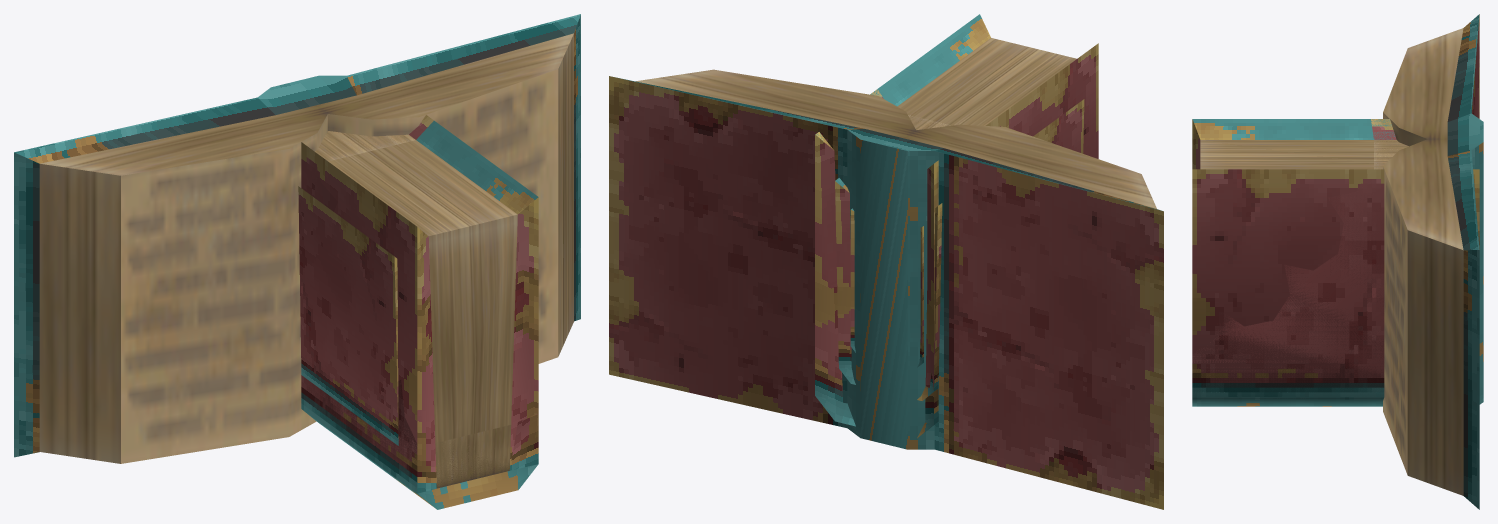
File: book_set_01.glb
3 renders of one model, left to right at view 1: azimuth 30°, elevation 25°; view 2: azimuth 150°, elevation 25°; view 3: azimuth 270°, elevation 25°, orthographic. The views are drawn at different scales.
Visible parts, largest first — view 1: interior.book_set_01-MeshSets[book_open].Mesh[1], interior.book_set_01-MeshSets[book_large_01].Mesh[1], interior.book_set_01-MeshSets[book_large_01].Mesh[0], interior.book_set_01-MeshSets[book_open].Mesh[0], interior.book_set_01-MeshSets[book_med_01].Mesh[0], interior.book_set_01-MeshSets[book_chomp_01].Mesh[0], interior.book_set_01-MeshSets[book_chomp_01].Mesh[1]; view 2: interior.book_set_01-MeshSets[book_open].Mesh[0], interior.book_set_01-MeshSets[book_open].Mesh[1], interior.book_set_01-MeshSets[book_chomp_01].Mesh[0], interior.book_set_01-MeshSets[book_large_01].Mesh[0], interior.book_set_01-MeshSets[book_large_01].Mesh[1], interior.book_set_01-MeshSets[book_med_01].Mesh[0], interior.book_set_01-MeshSets[book_small_01].Mesh[0]; view 3: interior.book_set_01-MeshSets[book_large_01].Mesh[0], interior.book_set_01-MeshSets[book_open].Mesh[1], interior.book_set_01-MeshSets[book_chomp_01].Mesh[0], interior.book_set_01-MeshSets[book_open].Mesh[0], interior.book_set_01-MeshSets[book_large_01].Mesh[1], interior.book_set_01-MeshSets[book_chomp_01].Mesh[1].
Part boxes in pixels (x1=…): interior.book_set_01-MeshSets[book_open].Mesh[1]: x1=39, y1=33, x2=573, y2=463; interior.book_set_01-MeshSets[book_large_01].Mesh[1]: x1=318, y1=131, x2=517, y2=487; interior.book_set_01-MeshSets[book_large_01].Mesh[0]: x1=301, y1=120, x2=538, y2=508; interior.book_set_01-MeshSets[book_open].Mesh[0]: x1=14, y1=14, x2=580, y2=457; interior.book_set_01-MeshSets[book_med_01].Mesh[0]: x1=298, y1=186, x2=398, y2=445; interior.book_set_01-MeshSets[book_chomp_01].Mesh[0]: x1=301, y1=115, x2=538, y2=509; interior.book_set_01-MeshSets[book_chomp_01].Mesh[1]: x1=315, y1=131, x2=511, y2=488; interior.book_set_01-MeshSets[book_open].Mesh[0]: x1=609, y1=76, x2=1163, y2=509; interior.book_set_01-MeshSets[book_open].Mesh[1]: x1=636, y1=69, x2=1156, y2=208; interior.book_set_01-MeshSets[book_chomp_01].Mesh[0]: x1=815, y1=89, x2=999, y2=438; interior.book_set_01-MeshSets[book_large_01].Mesh[0]: x1=815, y1=14, x2=1098, y2=424; interior.book_set_01-MeshSets[book_large_01].Mesh[1]: x1=897, y1=38, x2=1076, y2=129; interior.book_set_01-MeshSets[book_med_01].Mesh[0]: x1=835, y1=99, x2=1084, y2=400; interior.book_set_01-MeshSets[book_small_01].Mesh[0]: x1=850, y1=208, x2=923, y2=367; interior.book_set_01-MeshSets[book_large_01].Mesh[0]: x1=1192, y1=119, x2=1479, y2=406; interior.book_set_01-MeshSets[book_open].Mesh[1]: x1=1383, y1=28, x2=1463, y2=495; interior.book_set_01-MeshSets[book_chomp_01].Mesh[0]: x1=1192, y1=119, x2=1479, y2=406; interior.book_set_01-MeshSets[book_open].Mesh[0]: x1=1447, y1=14, x2=1483, y2=509; interior.book_set_01-MeshSets[book_large_01].Mesh[1]: x1=1200, y1=140, x2=1405, y2=169; interior.book_set_01-MeshSets[book_chomp_01].Mesh[1]: x1=1374, y1=140, x2=1408, y2=169.
Bounding box in the file's own units: 1.4 × 0.72 × 0.73.
2 materials, 2 textured.
